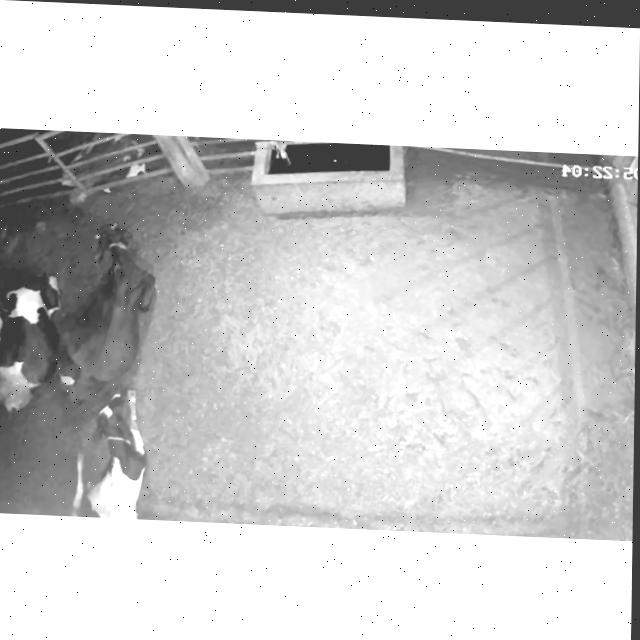lay: (60, 209, 165, 407), (64, 380, 156, 519), (0, 260, 62, 421)
